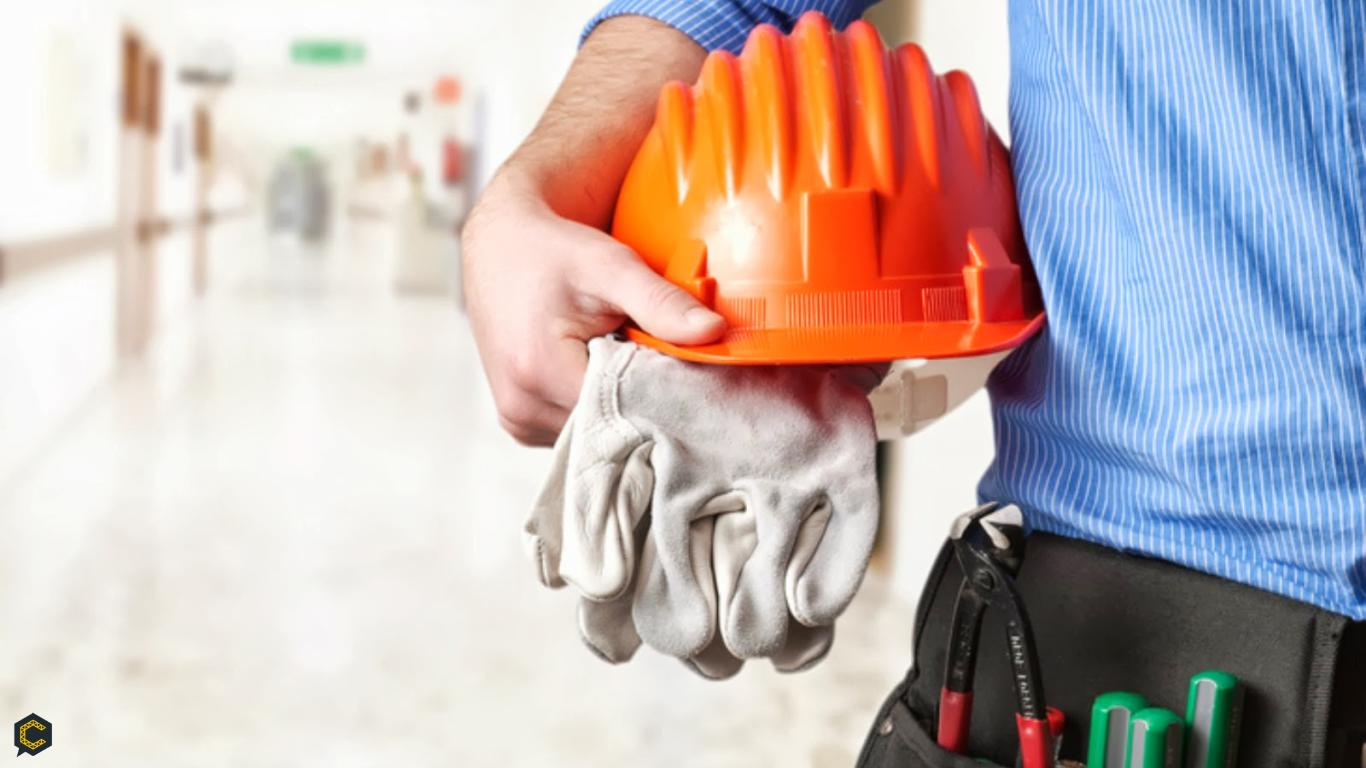casco: (601, 8, 1052, 371)
